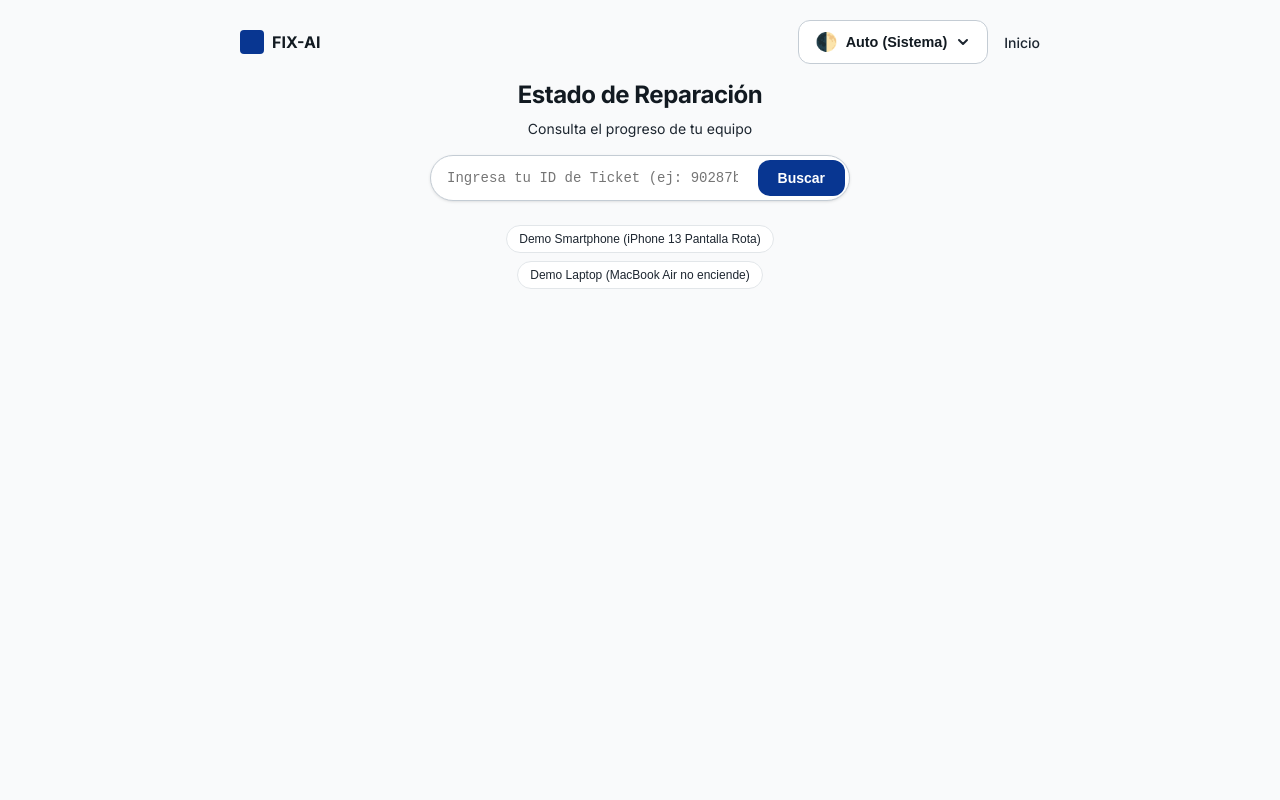
Test: TicketSearchClient (Portal de Clientes) › displays error message when ticket is not found
Type "TK-999" into the field with placeholder "Ingresa tu ID de Ticket (ej: 90287b37)" at [592, 178], box [431, 160, 754, 196]
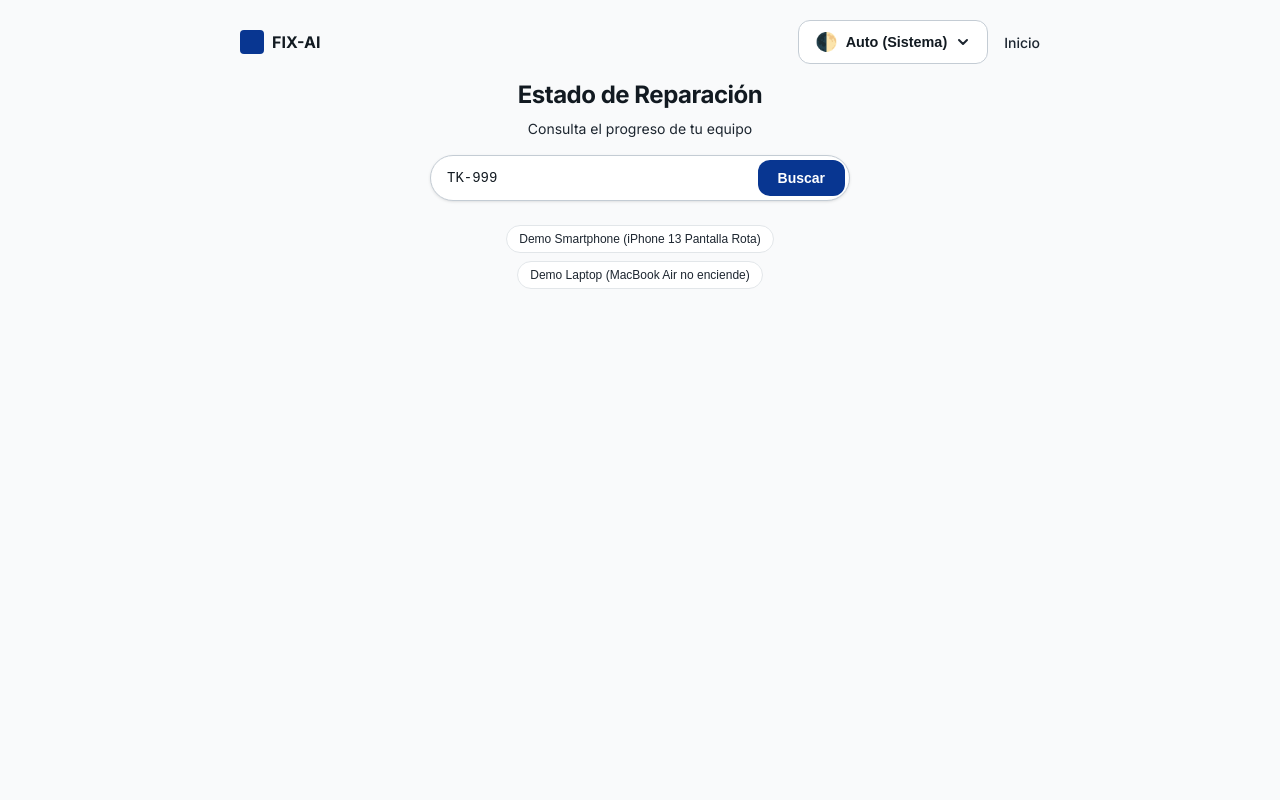
Click the button "Buscar" at [801, 178], box [758, 160, 845, 196]
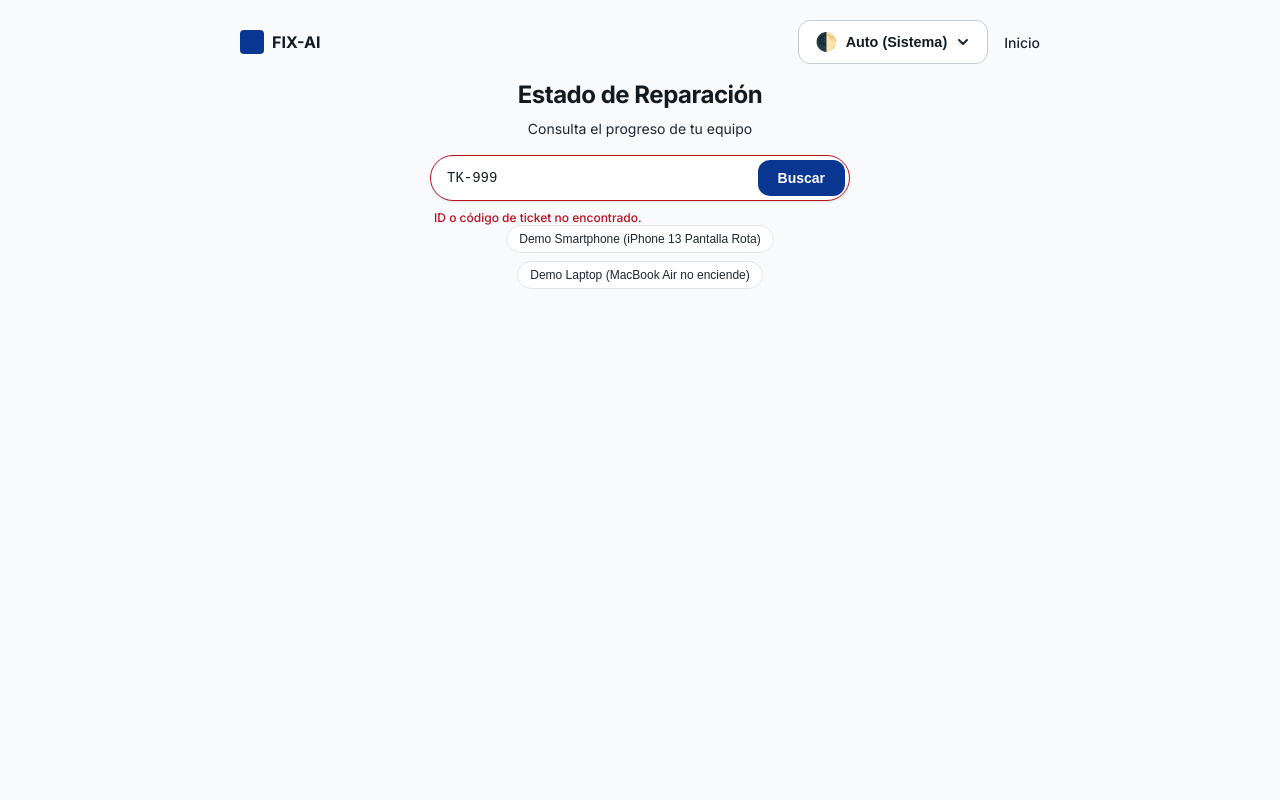
Check: the text "ID o código de ticket no encontrado." is shown, box [434, 209, 642, 227]
